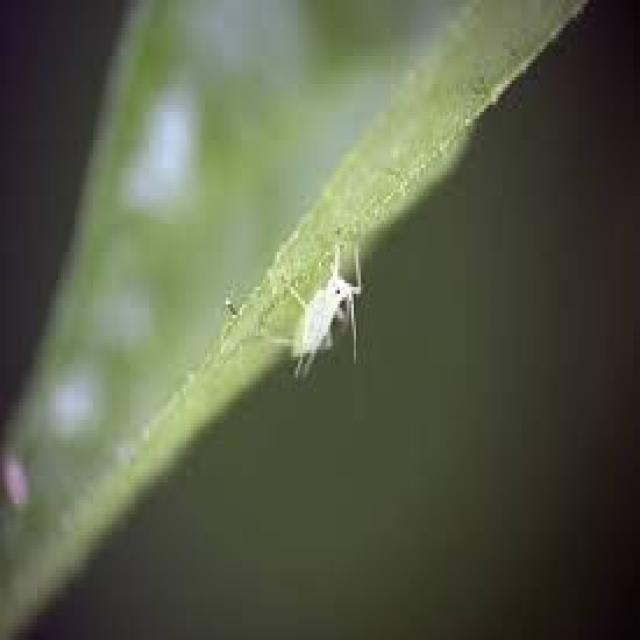Pestalotiopsis: (264, 214, 384, 392)
